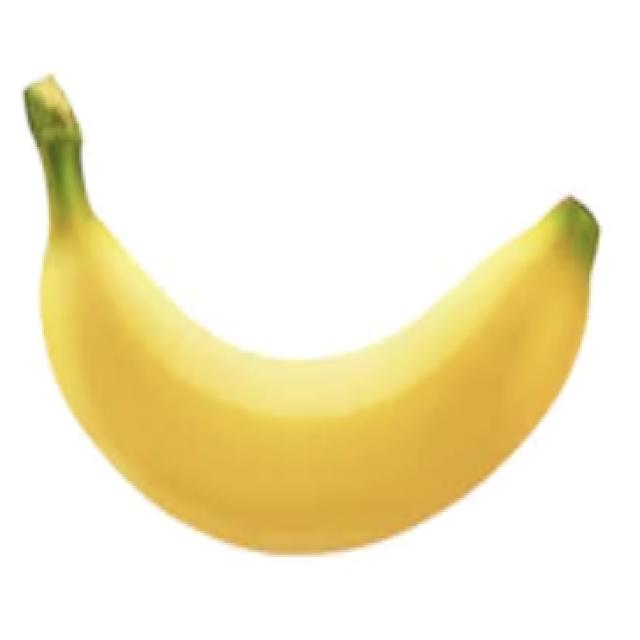Ripe: (12, 62, 617, 578)
